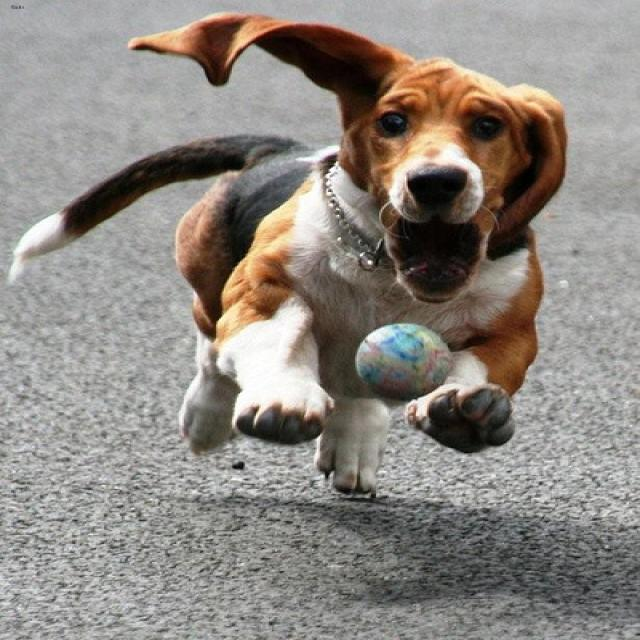dog-basset_hound: (2, 10, 581, 497)
